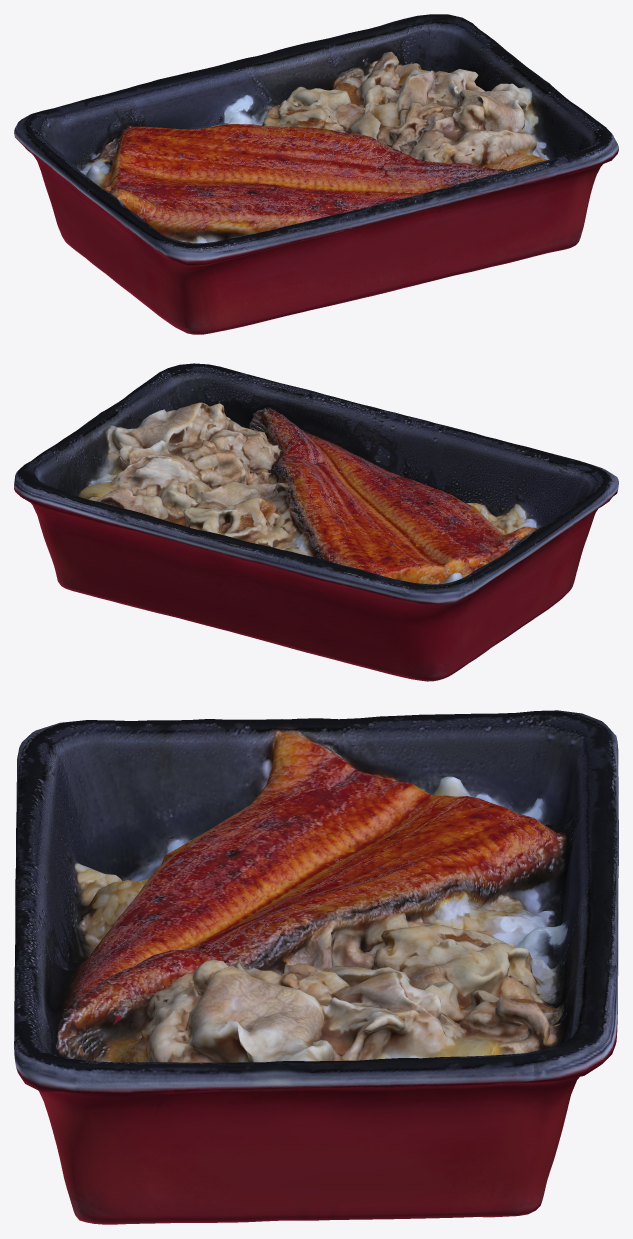
The model's file is unagyu.fbx.
3 renders of one model, top to bottom at view 1: azimuth 30°, elevation 25°; view 2: azimuth 150°, elevation 25°; view 3: azimuth 270°, elevation 25°, orthographic. The views are drawn at different scales.
Parts seen in each view (by area): view 1: unagyu; view 2: unagyu; view 3: unagyu.
Boxes of the visible parts, x1,y1,x2,y2 form: unagyu: (14, 14, 618, 334); unagyu: (14, 363, 618, 681); unagyu: (14, 710, 618, 1224).
Size of the model in its own units: 22.51 by 6.35 by 15.85.
